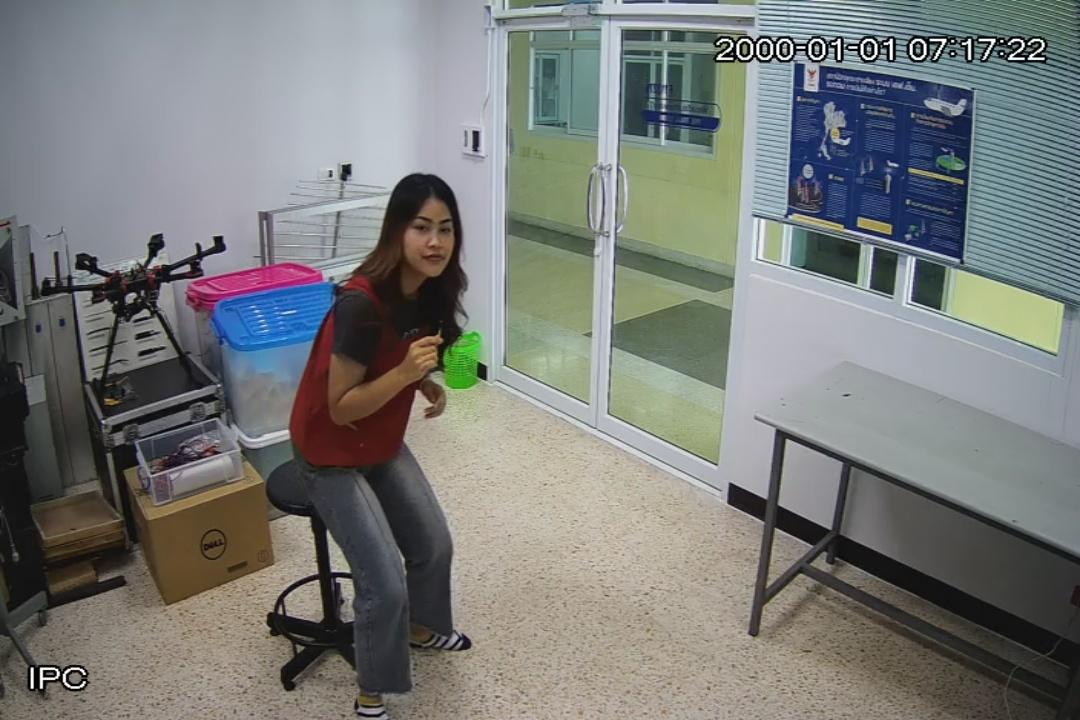normal: (287, 174, 463, 720)
